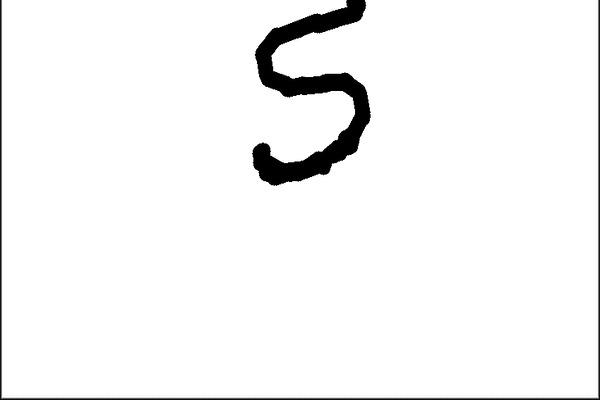S: (237, 0, 386, 196)
